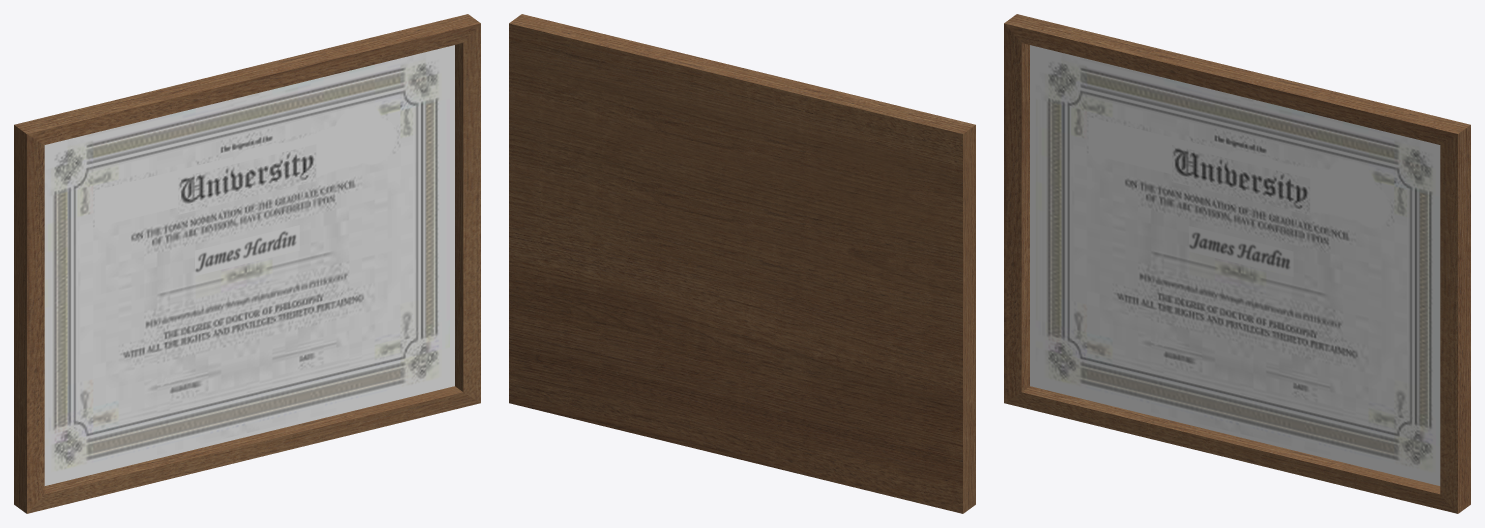
File: Certificate 3.FBX
3 renders of one model, left to right at view 1: azimuth 30°, elevation 25°; view 2: azimuth 150°, elevation 25°; view 3: azimuth 330°, elevation 25°, orthographic.
Parts seen in each view (by area): view 1: Certificate 3; view 2: Certificate 3; view 3: Certificate 3.
Boxes of the visible parts, x1,y1,x2,y2 form: Certificate 3: (14, 14, 480, 513); Certificate 3: (509, 14, 975, 513); Certificate 3: (1004, 14, 1470, 513).
Bounding box in the file's own units: 40.03 × 31.99 × 1.96.
1 material, 1 textured.
